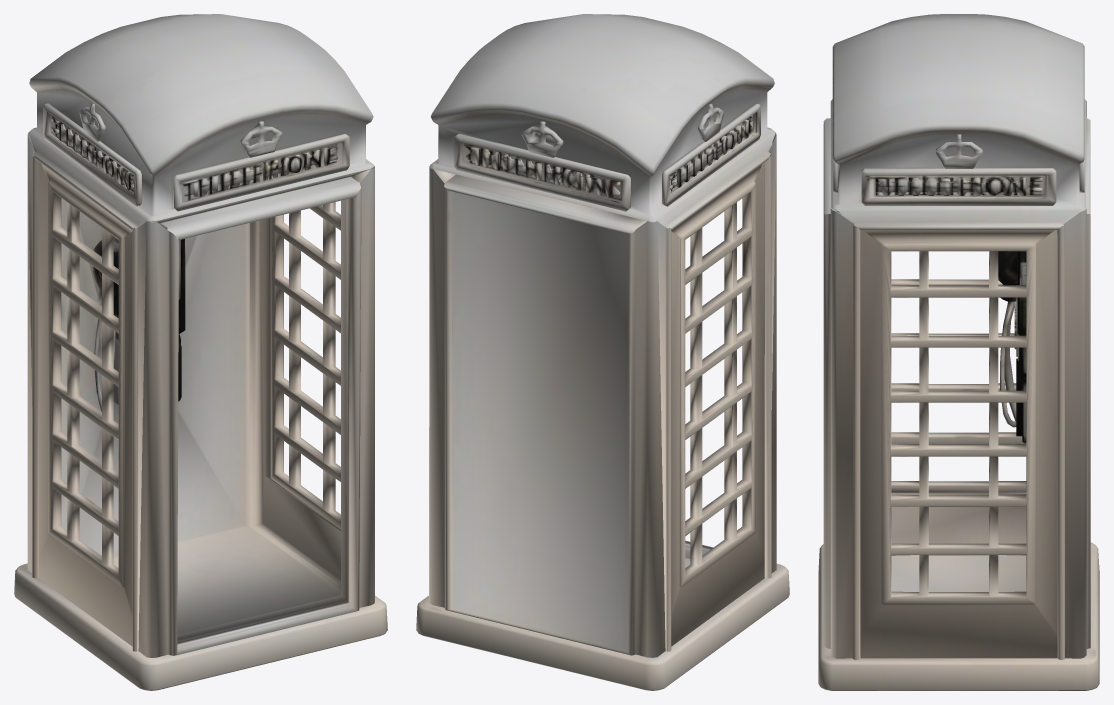
The model's file is a_phone_booth_c1e7aa8c_v1.glb.
3 renders of one model, left to right at view 1: azimuth 30°, elevation 25°; view 2: azimuth 150°, elevation 25°; view 3: azimuth 270°, elevation 25°, orthographic. The views are drawn at different scales.
Visible parts, largest first — view 1: material; view 2: material; view 3: material.
Part boxes in pixels (x1,y1,x2,y2): material: [14, 14, 387, 690]; material: [416, 14, 789, 690]; material: [818, 14, 1099, 690].
Size of the model in its own units: 0.8611 by 1.9 by 0.826.
Materials: 1 (1 with a texture image).
